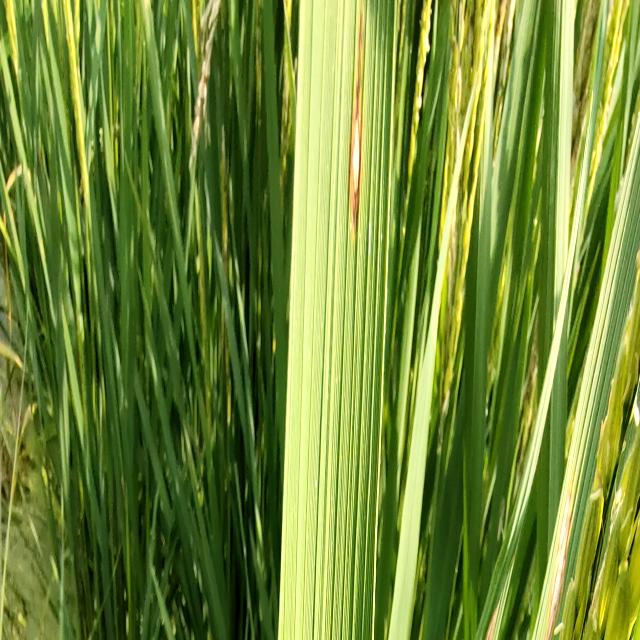LEAF BLAST: (349, 11, 364, 242)
